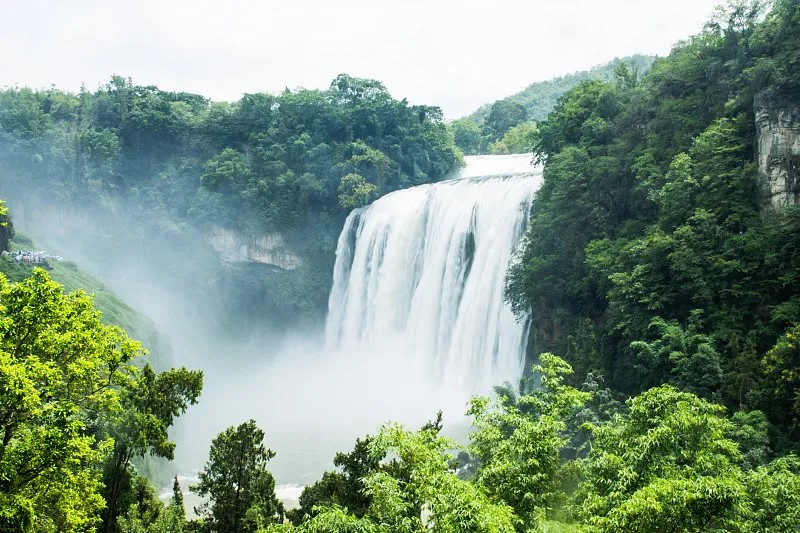Huangguoshu: (326, 153, 547, 405)
